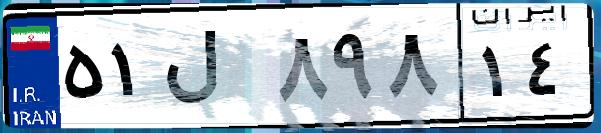1: (475, 38, 525, 113), (110, 28, 158, 98)
4: (525, 38, 570, 115)
5: (57, 26, 110, 100)
8: (270, 28, 330, 110), (385, 28, 445, 110)
9: (330, 28, 385, 110)
ل: (158, 20, 270, 120)
